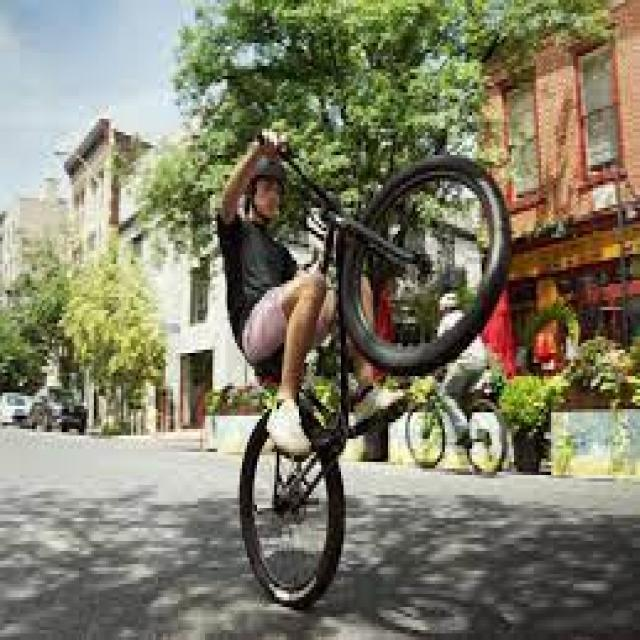Wheeling: (181, 56, 567, 559)
